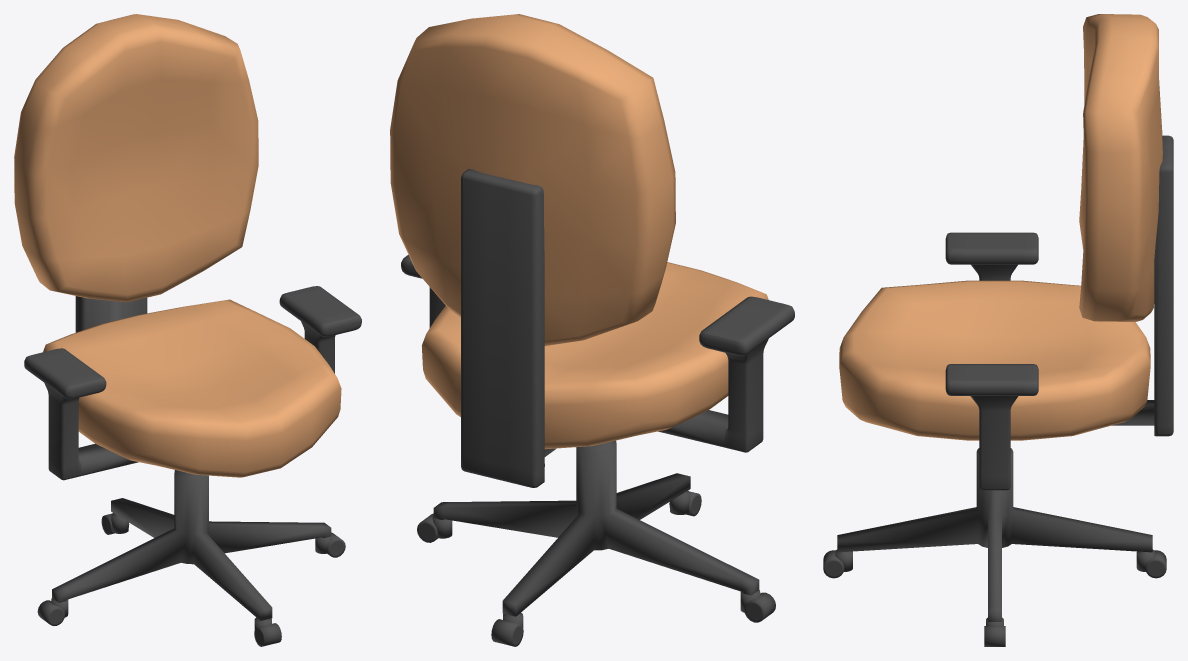
The model's file is kuris kantor.fbx.
3 renders of one model, left to right at view 1: azimuth 30°, elevation 25°; view 2: azimuth 150°, elevation 25°; view 3: azimuth 270°, elevation 25°, orthographic. The views are drawn at different scales.
Parts seen in each view (by area): view 1: Cube.002, Cube, kaki kursi, Cube.001; view 2: Cube.002, Cube.001, Cube, kaki kursi; view 3: Cube, Cube.002, Cube.001, kaki kursi.
Boxes of the visible parts, <box> form: Cube.002: <box>14,14,258,302</box>; Cube: <box>43,299,341,477</box>; kaki kursi: <box>37,470,345,646</box>; Cube.001: <box>24,286,361,480</box>; Cube.002: <box>390,14,675,345</box>; Cube.001: <box>401,169,794,487</box>; Cube: <box>422,262,768,449</box>; kaki kursi: <box>417,440,775,646</box>; Cube: <box>839,280,1150,440</box>; Cube.002: <box>1079,14,1162,321</box>; Cube.001: <box>945,135,1173,490</box>; kaki kursi: <box>823,448,1166,646</box>.
Size of the model in its own units: 109 by 182 by 106.
